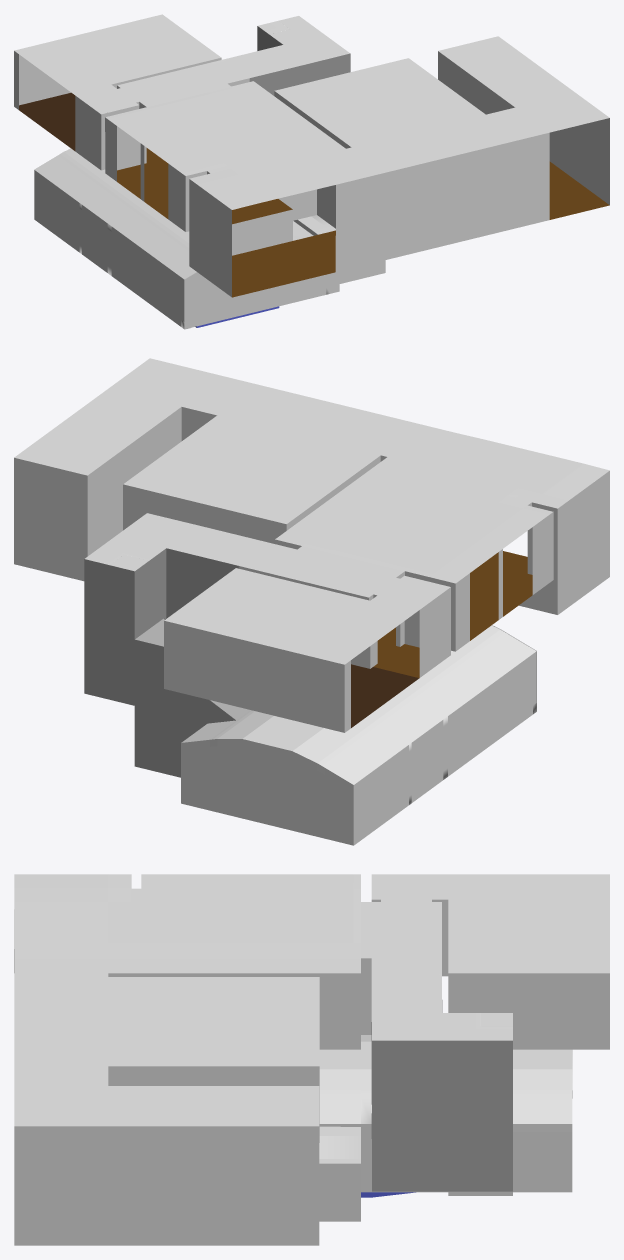
Rendered from home v3 with roof.fbx.
3 views of the same model, one above another, from view 1: azimuth 30°, elevation 25°; view 2: azimuth 150°, elevation 25°; view 3: azimuth 270°, elevation 25° (orthographic). The views are drawn at different scales.
Parts seen in each view (by area): view 1: HouseModel, Roof, Beam.001; view 2: HouseModel, Roof, Beam.002; view 3: Roof, HouseModel.
Boxes of the visible parts, x1=… form: HouseModel: x1=14, y1=26, x2=609, y2=329; Roof: x1=14, y1=14, x2=609, y2=209; Beam.001: x1=184, y1=272, x2=201, y2=329; HouseModel: x1=14, y1=407, x2=609, y2=845; Roof: x1=14, y1=358, x2=609, y2=664; Beam.002: x1=181, y1=739, x2=353, y2=845; Roof: x1=14, y1=874, x2=609, y2=1126; HouseModel: x1=14, y1=899, x2=609, y2=1245.
Bounding box in the file's own units: 2542 × 1151 × 2540.
